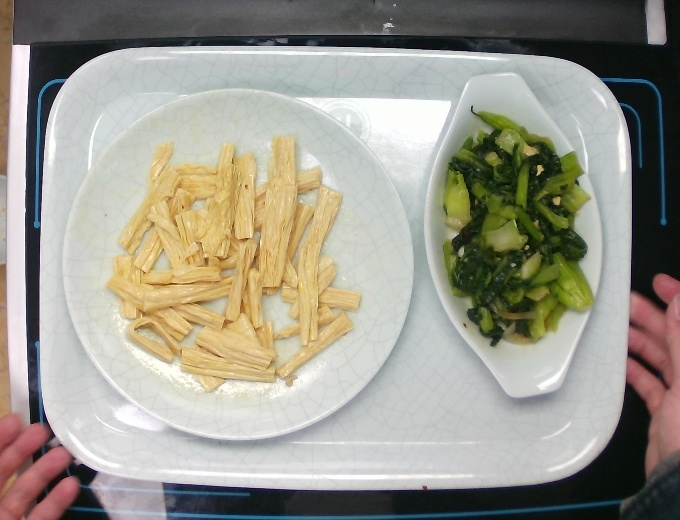JYsf-Da_Yuan_Pan: (56, 83, 419, 446)
JYsf-Yu_Pan: (421, 67, 611, 407)
